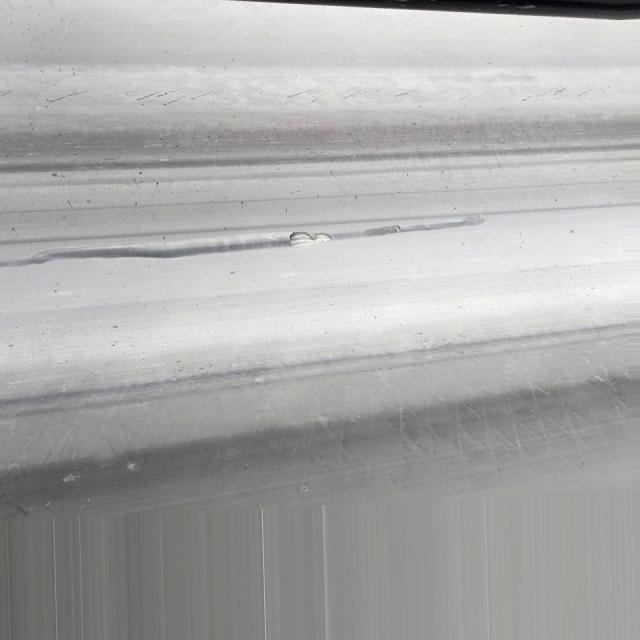Tear: (287, 229, 336, 245)
impact damage: (38, 209, 489, 274)
